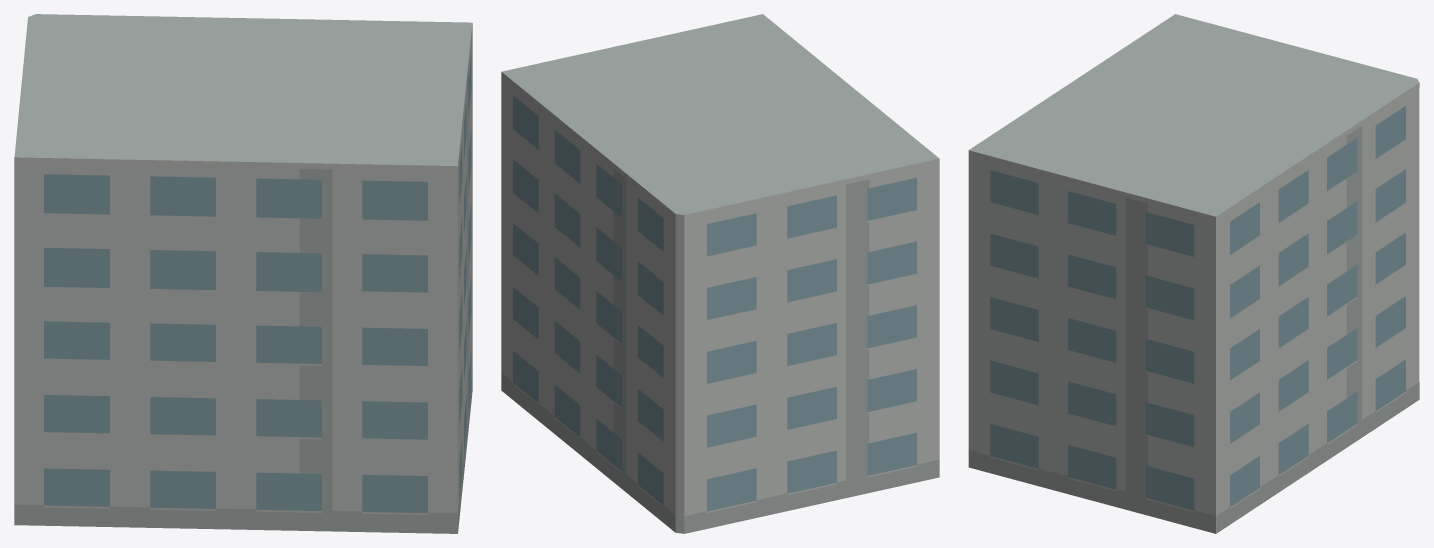
The model's file is survey-upis-32843770.glb.
The picture shows the model from 3 angles, left to right: view 1: azimuth 30°, elevation 25°; view 2: azimuth 150°, elevation 25°; view 3: azimuth 270°, elevation 25°; orthographic projection. The views are drawn at different scales.
Parts seen in each view (by area): view 1: survey-upis-32843770.tmp; view 2: survey-upis-32843770.tmp; view 3: survey-upis-32843770.tmp.
Part boxes in pixels (x1=…): survey-upis-32843770.tmp: x1=14, y1=14, x2=472, y2=533; survey-upis-32843770.tmp: x1=501, y1=14, x2=939, y2=533; survey-upis-32843770.tmp: x1=968, y1=14, x2=1419, y2=533.
Size of the model in its own units: 20.43 by 14.9 by 19.2.
